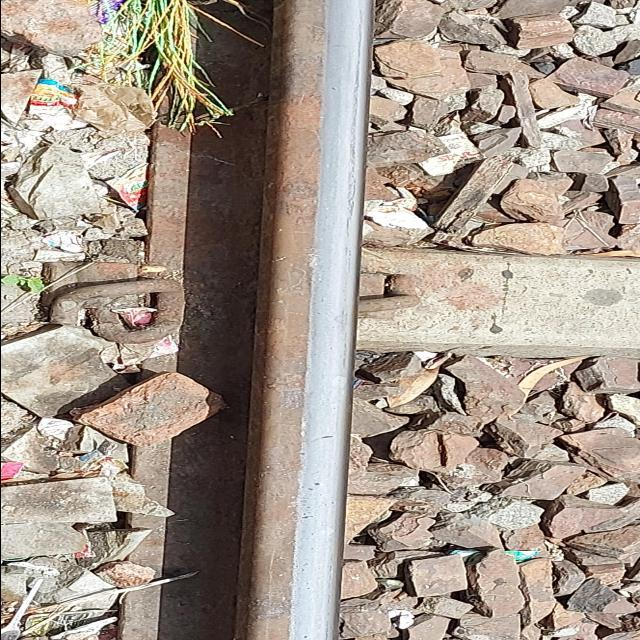squats_high: (303, 435, 337, 443), (304, 482, 322, 491), (325, 44, 350, 49), (299, 514, 315, 520)
